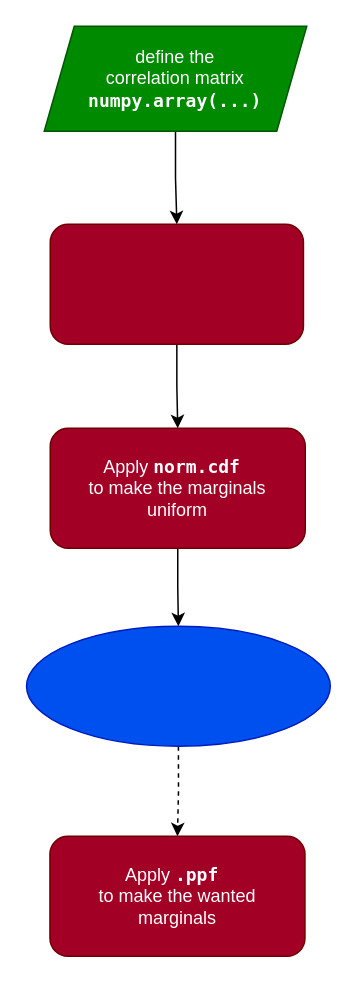
Image size: 357x983. Some labels were removed from this diagram. Here are the shapes that lost their labels. From the top down, the box of each, then its label:
(49, 223, 303, 344): Sample from multivariate_normal
(25, 625, 330, 746): copula function
